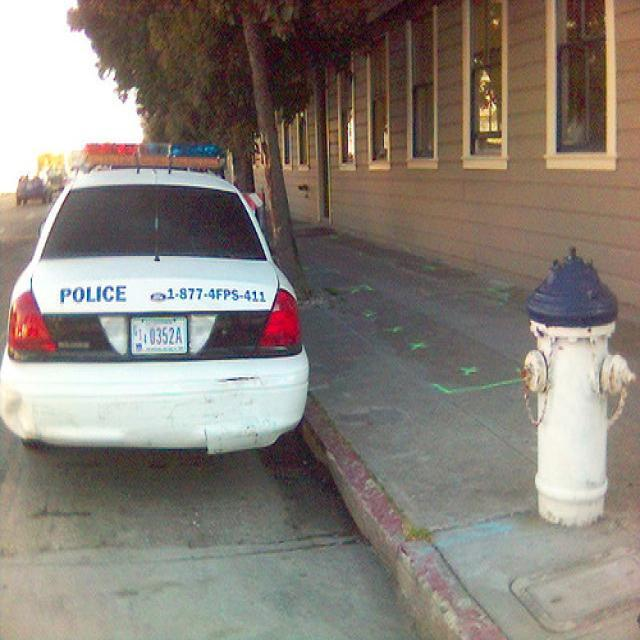fire_hydrant: (518, 244, 638, 536)
